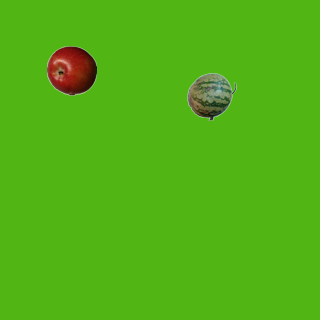Apple Braeburn: (46, 45, 96, 95)
Watermelon: (186, 71, 236, 121)
